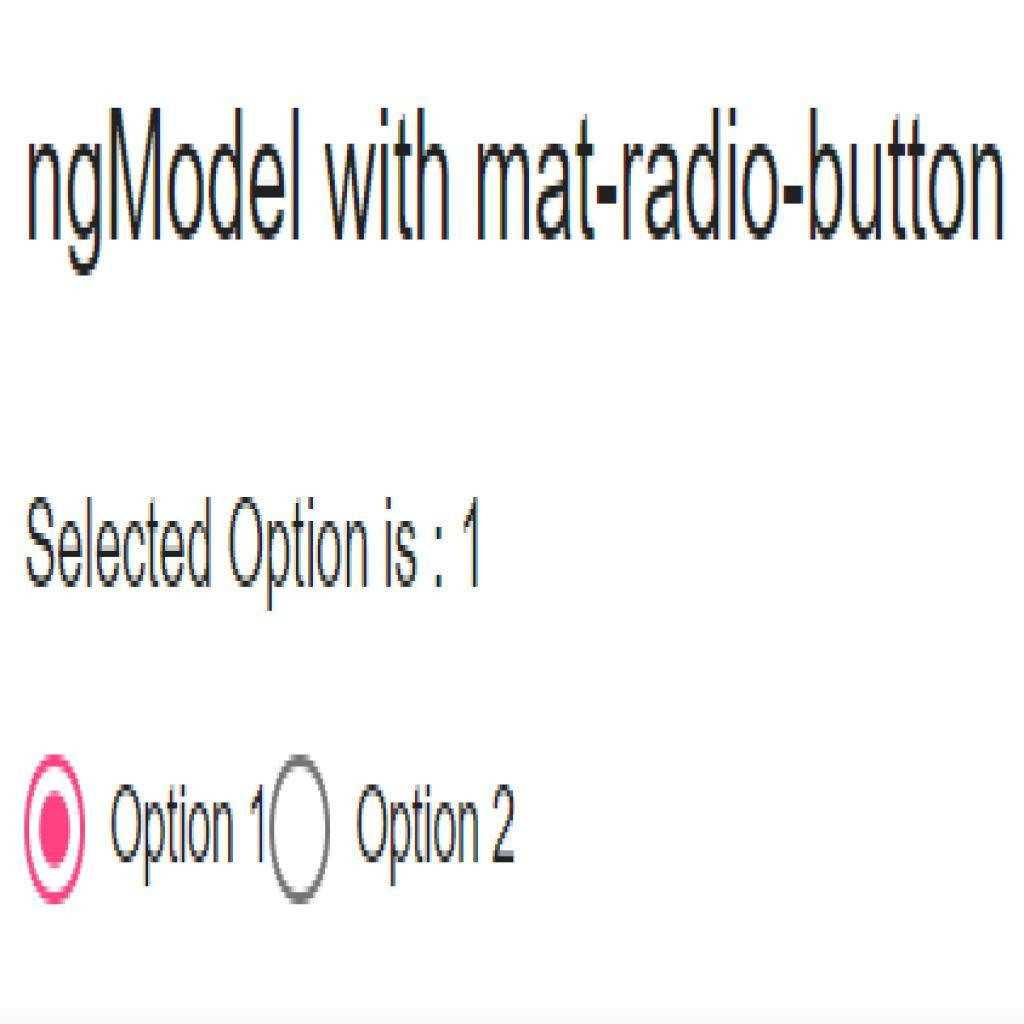radio: (19, 756, 93, 904), (272, 756, 337, 904)
